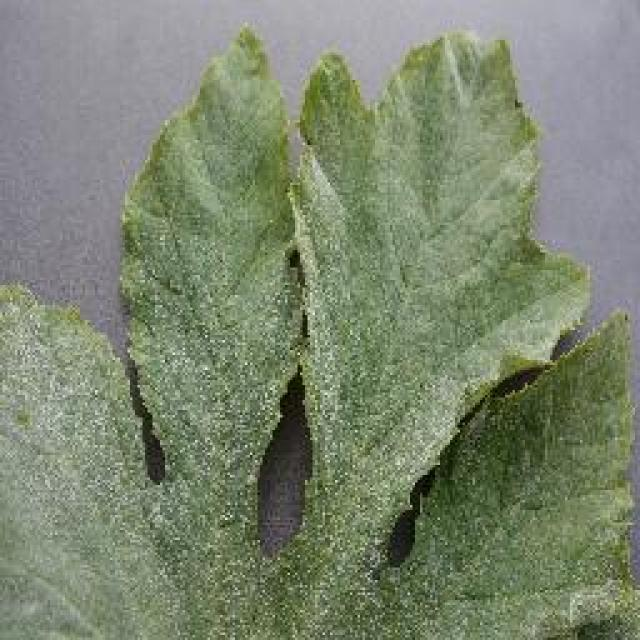Squ_Powdery_mildew: (92, 138, 564, 600)
